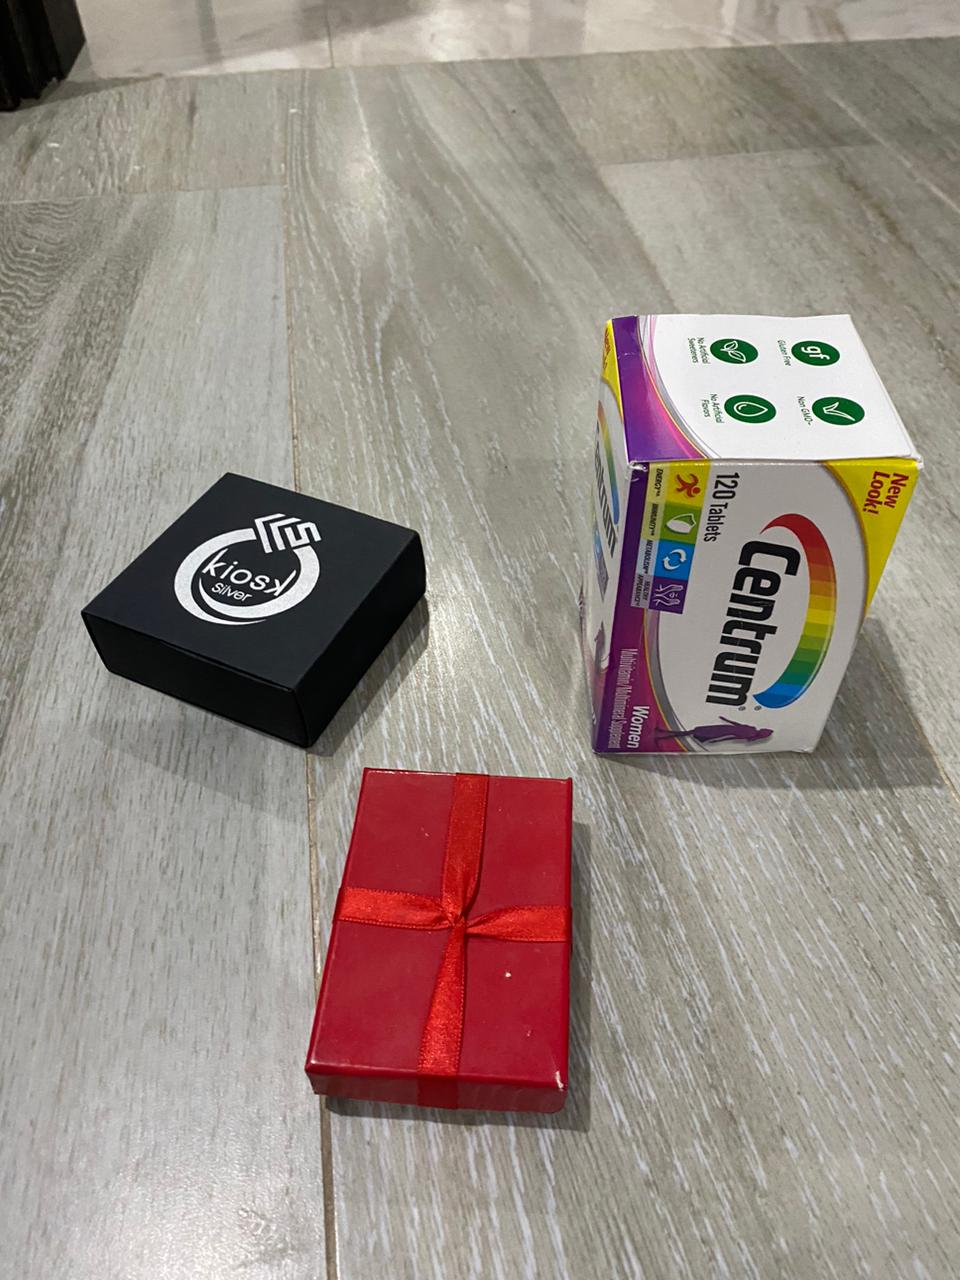Black Box: (312, 763, 579, 1119)
Centrum: (588, 313, 923, 763)
Red Box: (82, 468, 427, 755)
